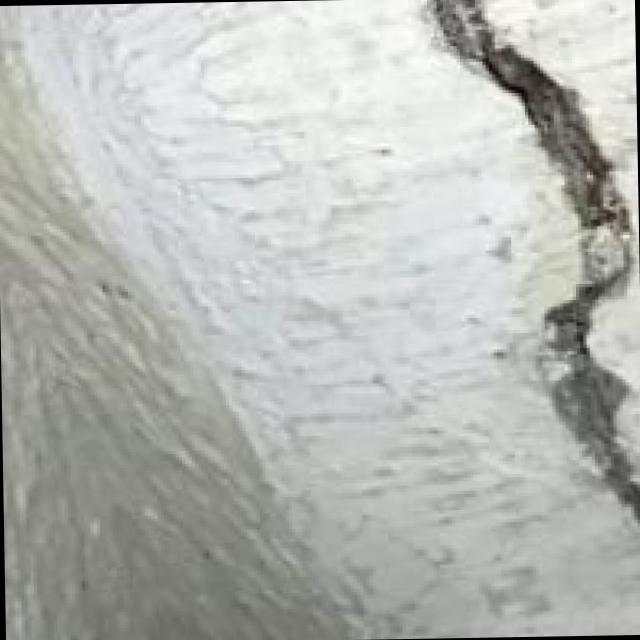crack: (359, 0, 640, 521)
